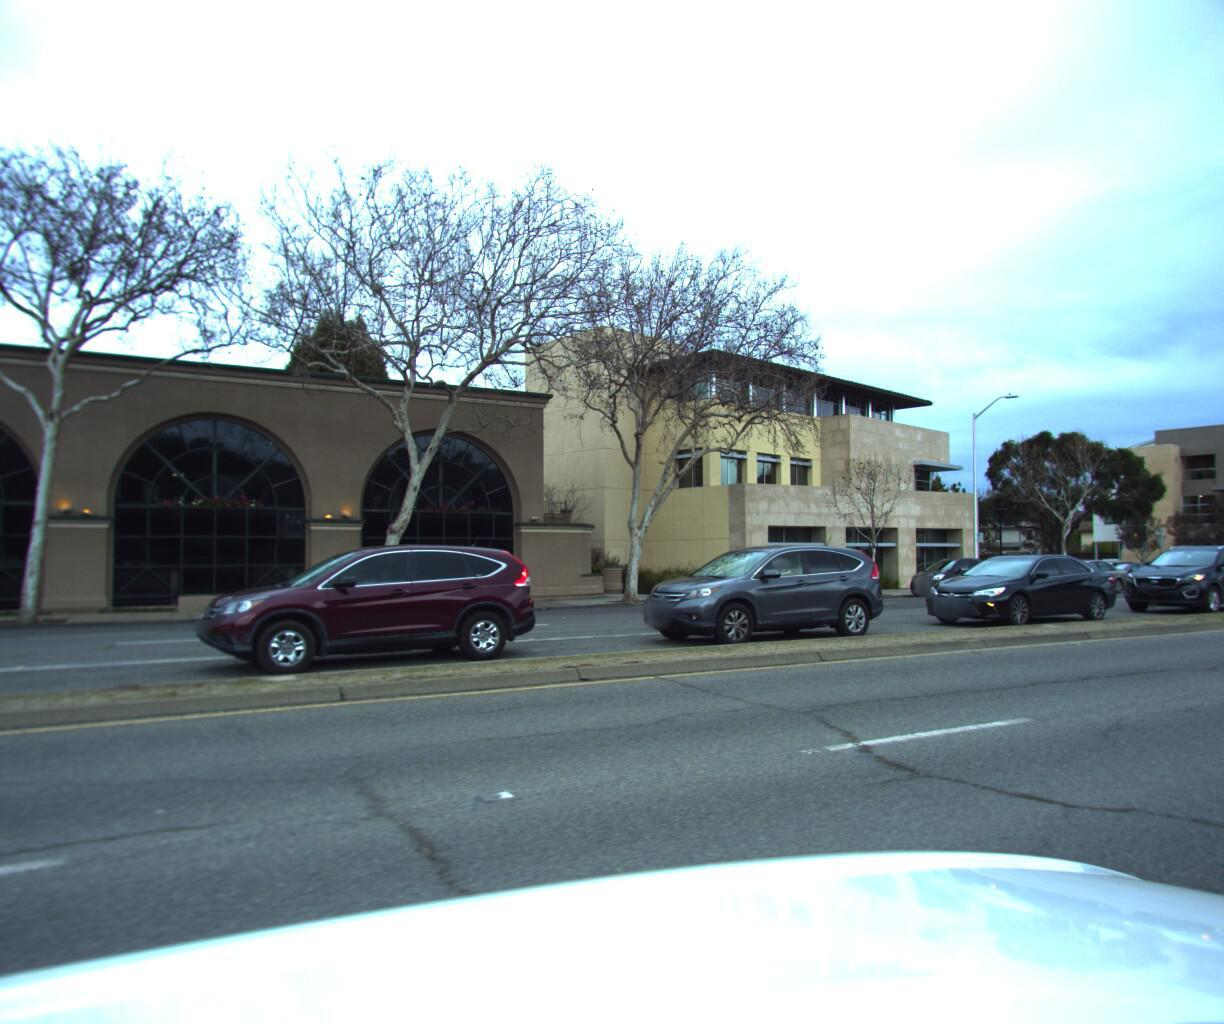car: (184, 539, 554, 684), (620, 539, 901, 651), (908, 548, 1130, 629), (1109, 537, 1224, 611), (898, 550, 995, 595), (1031, 552, 1130, 593)
